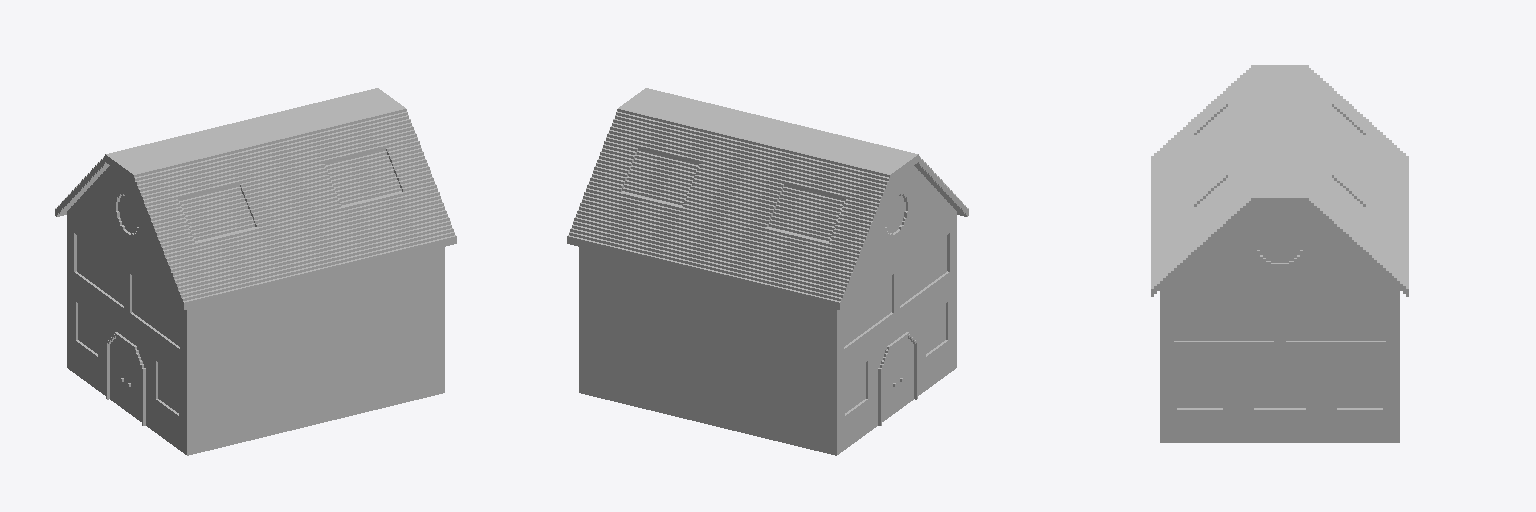
File: building3.obj
3 renders of one model, left to right at view 1: azimuth 30°, elevation 25°; view 2: azimuth 150°, elevation 25°; view 3: azimuth 270°, elevation 25°, orthographic.
Visible parts, largest first — view 1: object 1; view 2: object 1; view 3: object 1.
Boxes of the visible parts, x1,y1,x2,y2 form: object 1: [55, 88, 456, 455]; object 1: [567, 88, 968, 455]; object 1: [1151, 65, 1408, 442].
Bounding box in the file's own units: 11 × 9.6 × 9.